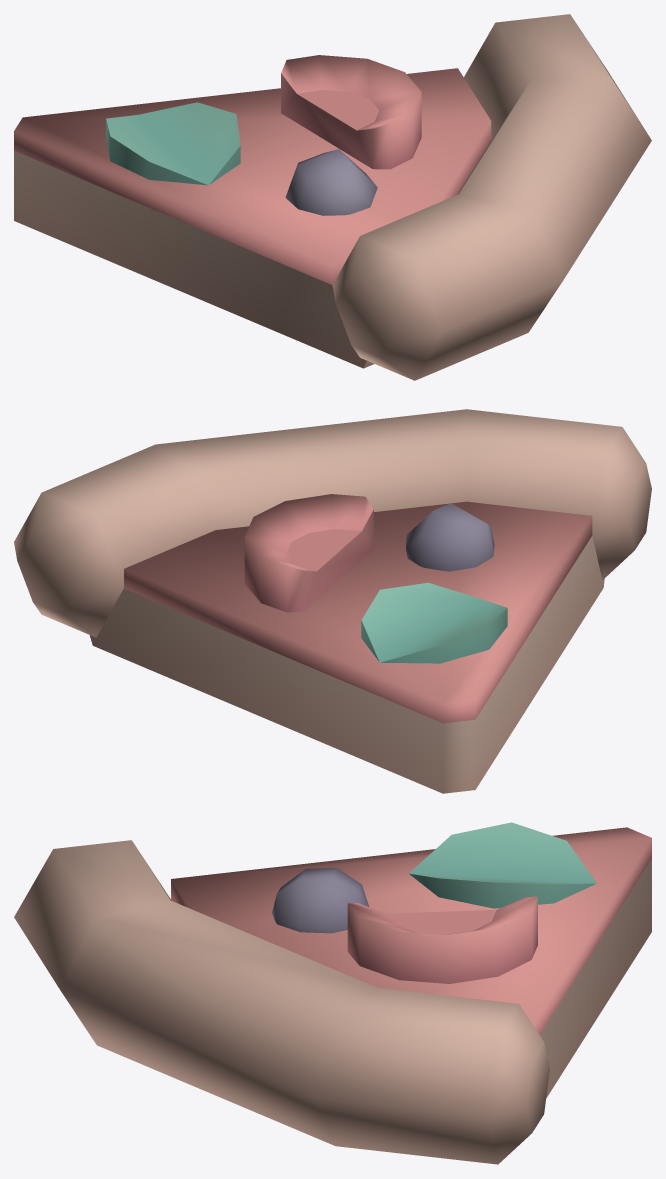
The model's file is pizza-slice.glb.
3 renders of one model, top to bottom at view 1: azimuth 30°, elevation 25°; view 2: azimuth 150°, elevation 25°; view 3: azimuth 270°, elevation 25°, orthographic. The views are drawn at different scales.
Parts seen in each view (by area): view 1: pizza-slice; view 2: pizza-slice; view 3: pizza-slice.
Boxes of the visible parts, x1,y1,x2,y2 form: pizza-slice: [14, 14, 651, 380]; pizza-slice: [14, 409, 651, 793]; pizza-slice: [14, 822, 651, 1164].
Size of the model in its own units: 0.3141 by 0.0774 by 0.3141.
